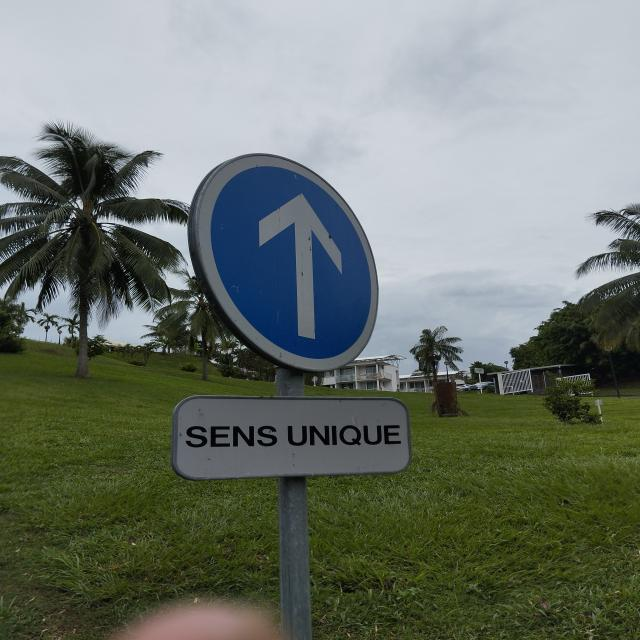Sens-Unique: (192, 150, 382, 377)
